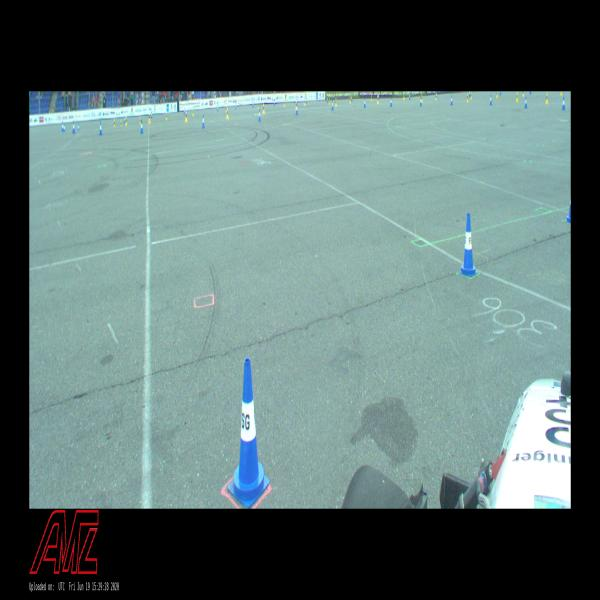blue_cone: (228, 357, 270, 508), (459, 213, 478, 277), (565, 196, 571, 223), (140, 119, 144, 134), (99, 121, 103, 135), (72, 120, 76, 134), (202, 114, 205, 129), (524, 97, 528, 108), (562, 97, 565, 110), (258, 109, 261, 121), (332, 99, 334, 110), (62, 121, 64, 132), (490, 95, 492, 105), (450, 95, 452, 105), (420, 96, 422, 106), (390, 96, 392, 106), (364, 98, 366, 108), (296, 104, 298, 114), (151, 112, 152, 118)
yellow_cone: (185, 111, 188, 122), (148, 112, 151, 123), (226, 108, 229, 118), (546, 92, 548, 103), (516, 91, 518, 102), (466, 92, 468, 102), (263, 104, 265, 114), (470, 91, 472, 100), (377, 95, 379, 104), (335, 98, 337, 107), (126, 116, 128, 125), (421, 94, 423, 102), (403, 92, 405, 100), (166, 112, 168, 120), (522, 92, 524, 97)
